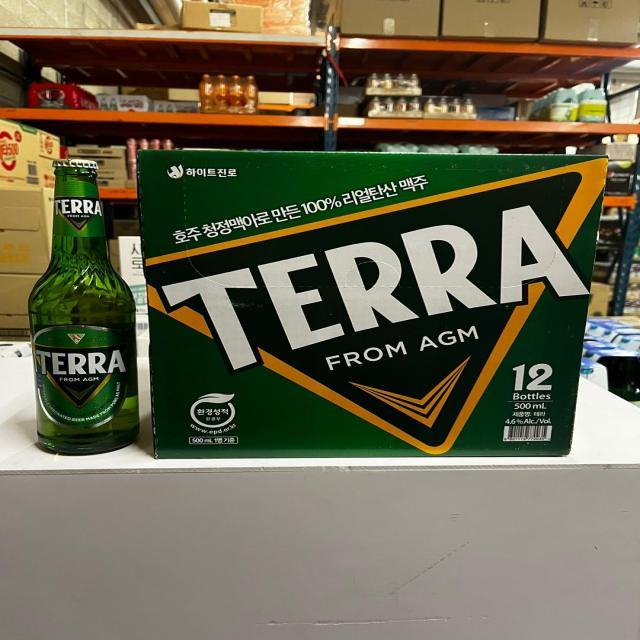beer-bottle: (20, 149, 148, 464)
